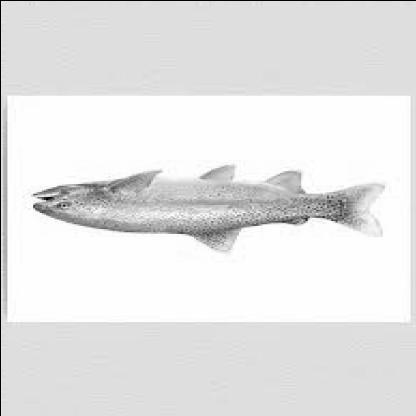fish: (32, 166, 386, 254)
